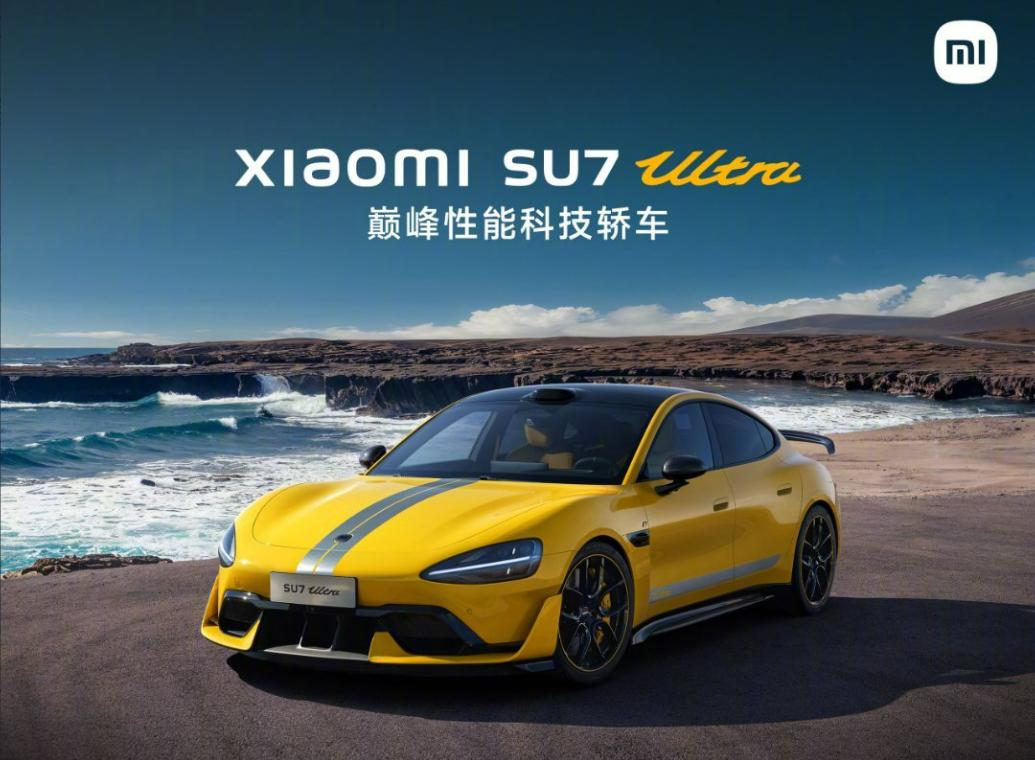su7: (193, 379, 846, 700)
